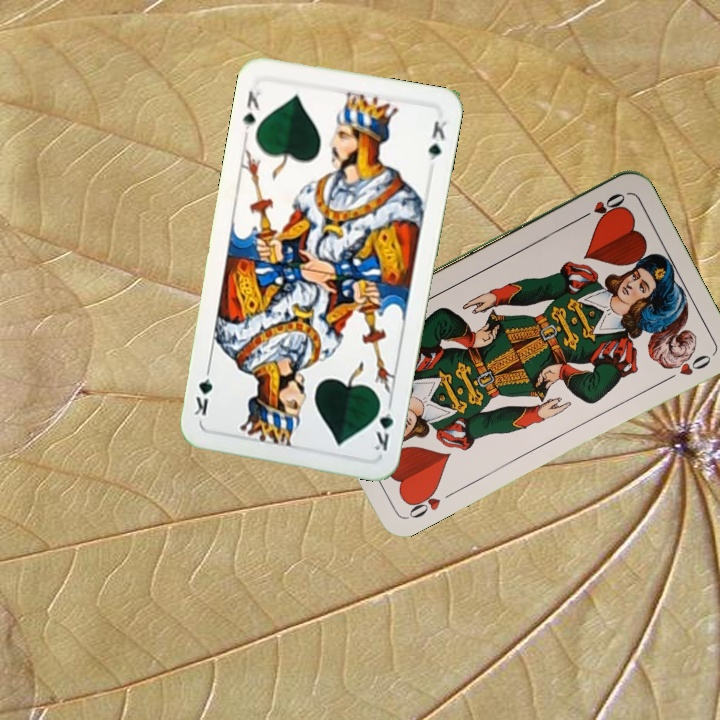GK: (370, 396, 396, 454), (239, 87, 264, 138)
HO: (574, 189, 628, 223), (402, 482, 443, 522)
